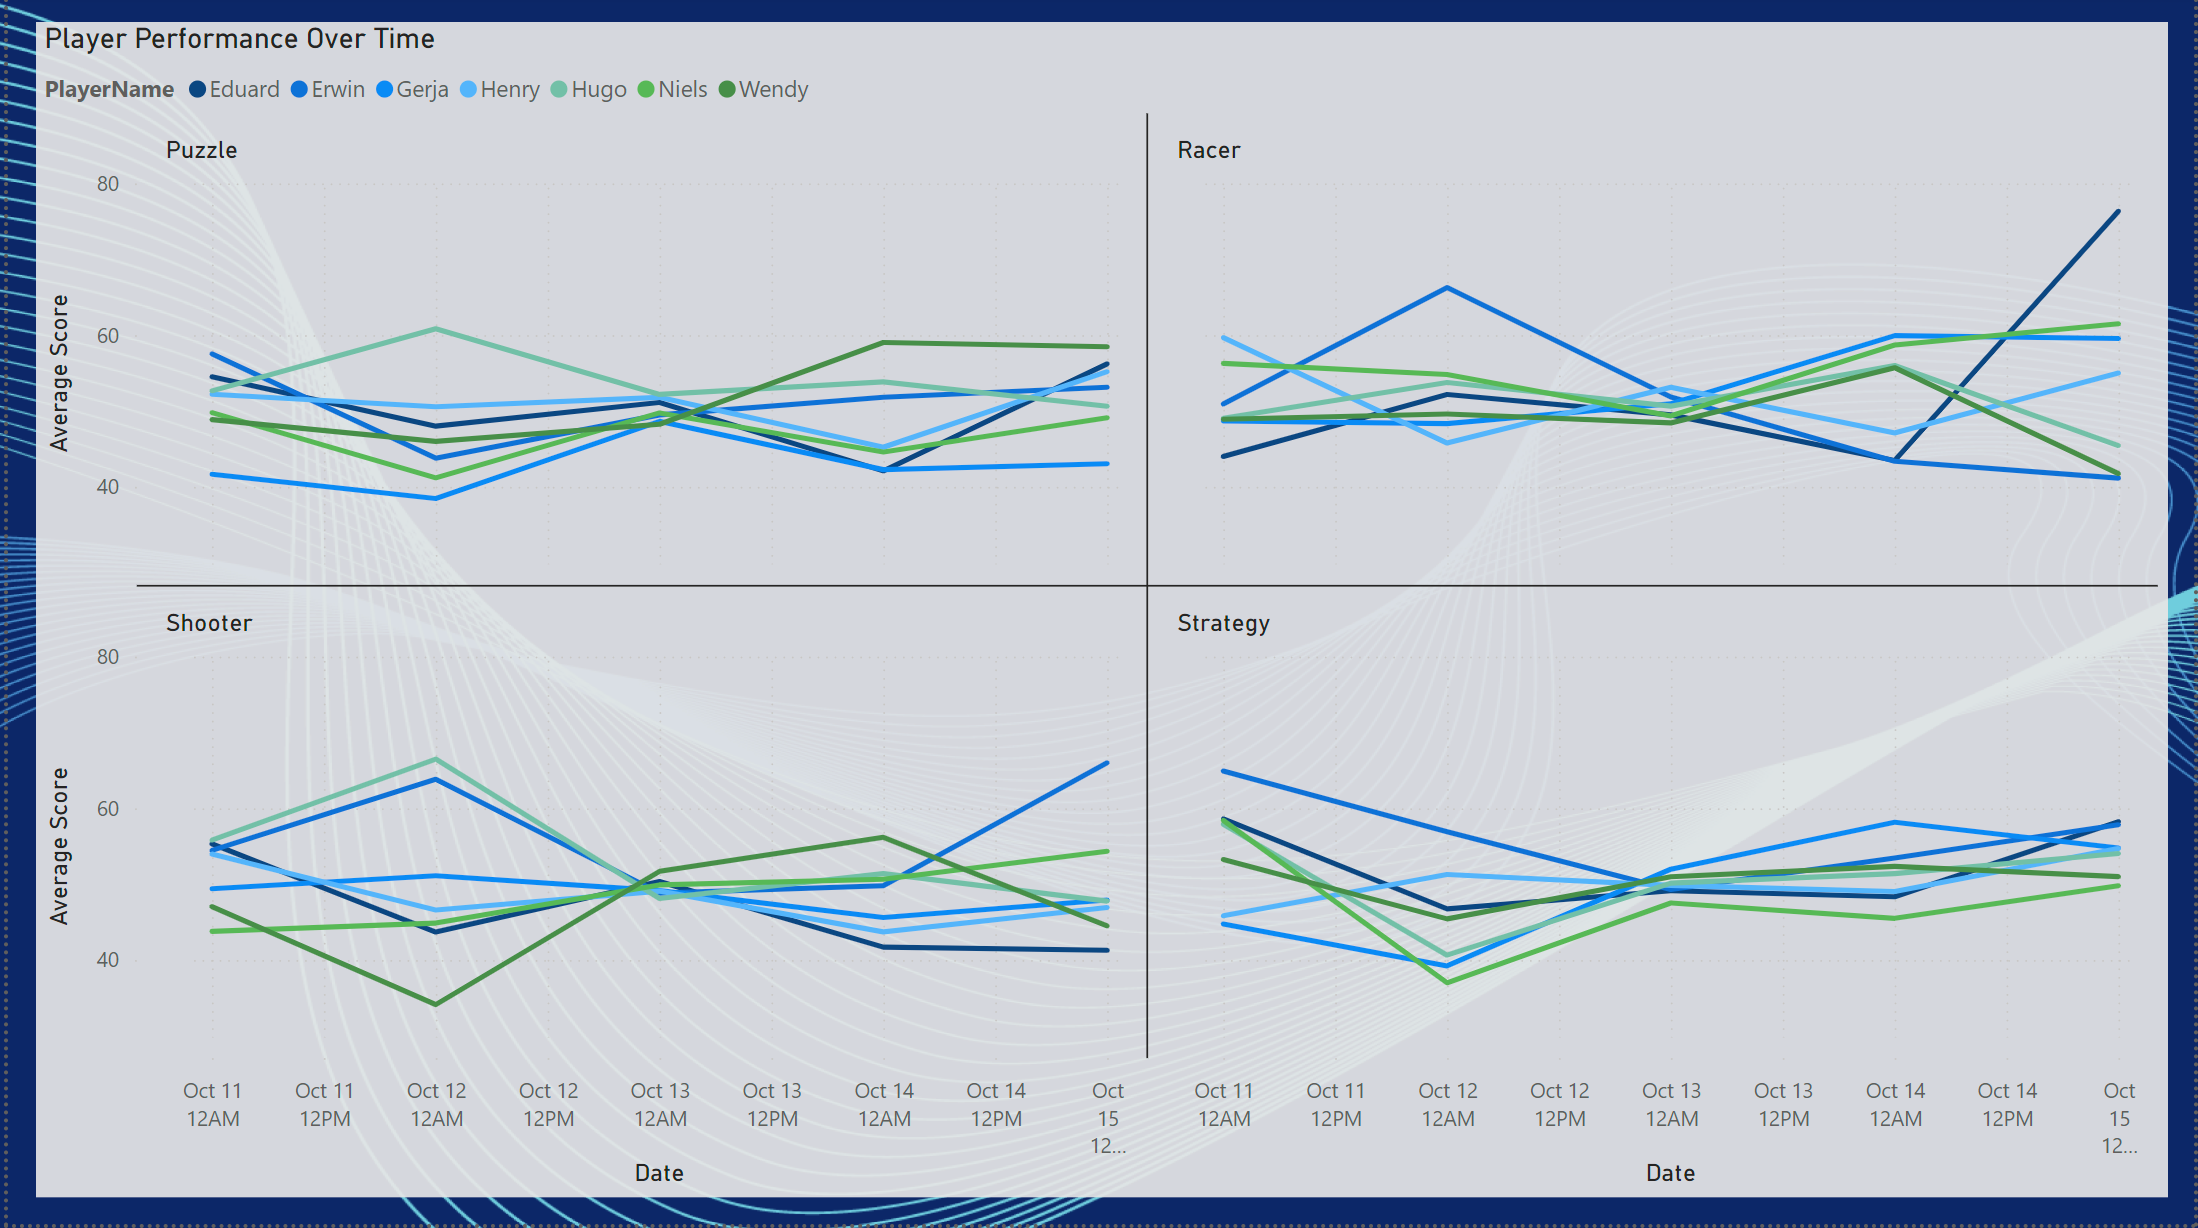

The dashboard page shown, as its layout file describes it:
{"tool":"powerbi","page":{"name":"2.\tPlayer Performance","canvas":[1280,720],"ordinal":1},"visuals":[{"type":"lineChart","title":"Player Performance Over Time","fields":{"Category":["GameAnalytics vw_PlayerPerformance.Date"],"Y":["GameAnalytics vw_PlayerPerformance.Score"],"Series":["GameAnalytics vw_PlayerPerformance.PlayerName"],"Rows":["GameAnalytics vw_PlayerPerformance.GameName"]},"box":[16,16,1248,688],"z":0}]}

Visuals, with their boxes in screenshot pixels (x1, y1, x2, y2), scaled from the page's 1280x720 canvas onto the 2198x1228 screenshot:
"Player Performance Over Time" lineChart: box=[27, 27, 2171, 1201]
